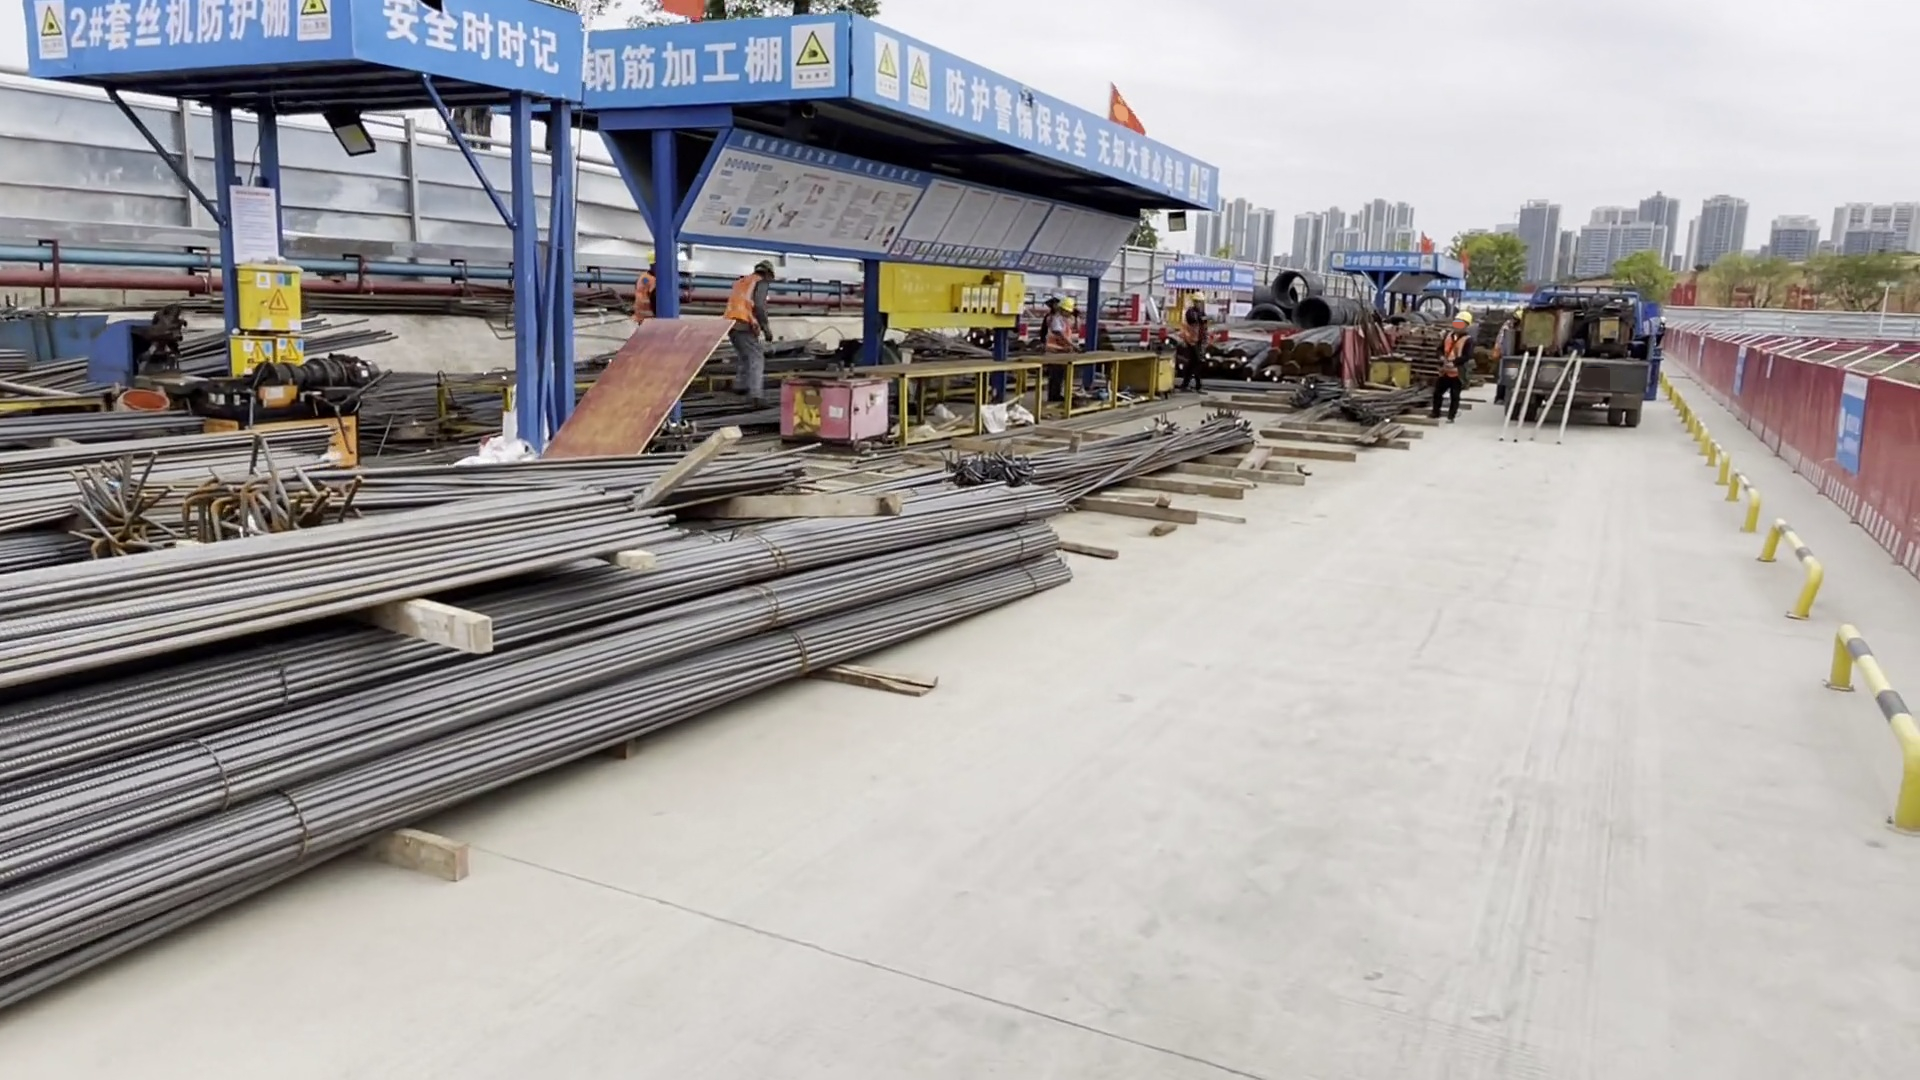helmet: (645, 247, 670, 267), (1059, 297, 1079, 315), (761, 258, 774, 273), (1193, 290, 1207, 302), (1661, 315, 1669, 324)
person: (724, 252, 783, 391), (635, 240, 675, 381), (1435, 305, 1475, 429), (1043, 293, 1082, 399), (1182, 283, 1213, 395), (1493, 309, 1519, 405), (1655, 314, 1669, 352)
vest: (728, 272, 760, 326), (1185, 307, 1216, 350), (632, 270, 661, 313), (1441, 334, 1466, 376), (1051, 319, 1075, 353), (1457, 310, 1471, 326), (1657, 323, 1667, 340)
